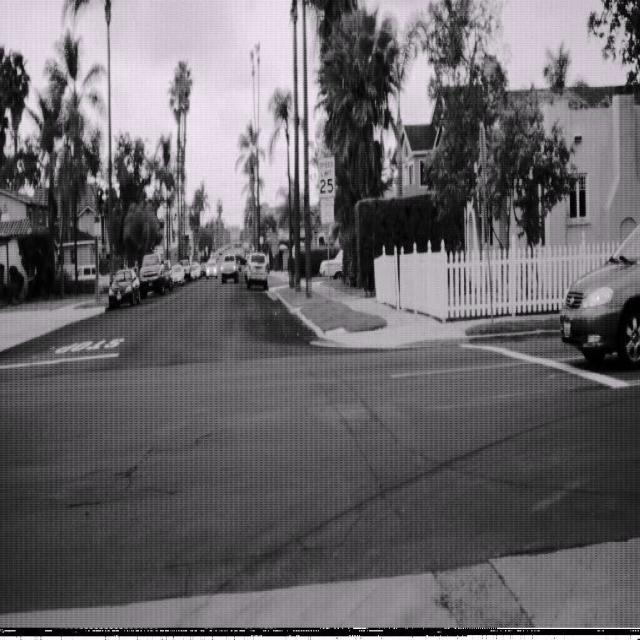speedLimit25: (317, 153, 336, 199)
